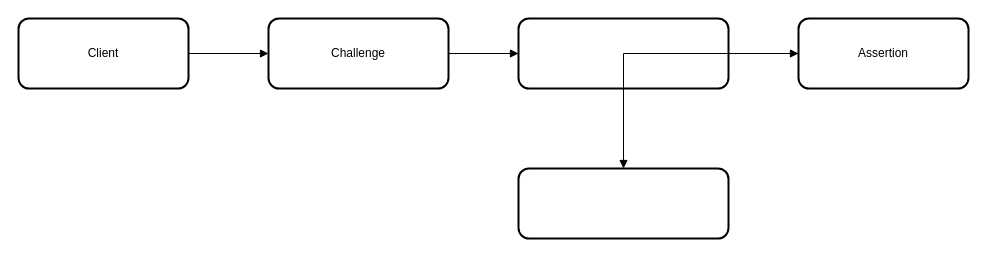
This 986x256 diagram has some shape labels left out. Each missing label, with the centre of its shape:
Authenticator: point 623,53
Verify: point 623,203
